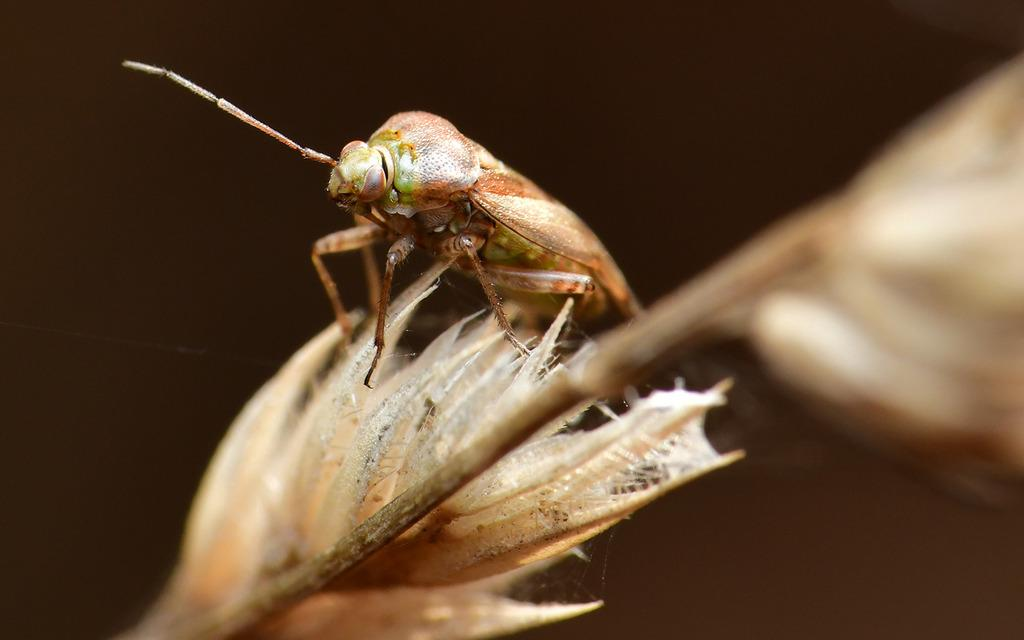plant_bugs: (99, 0, 729, 425)
